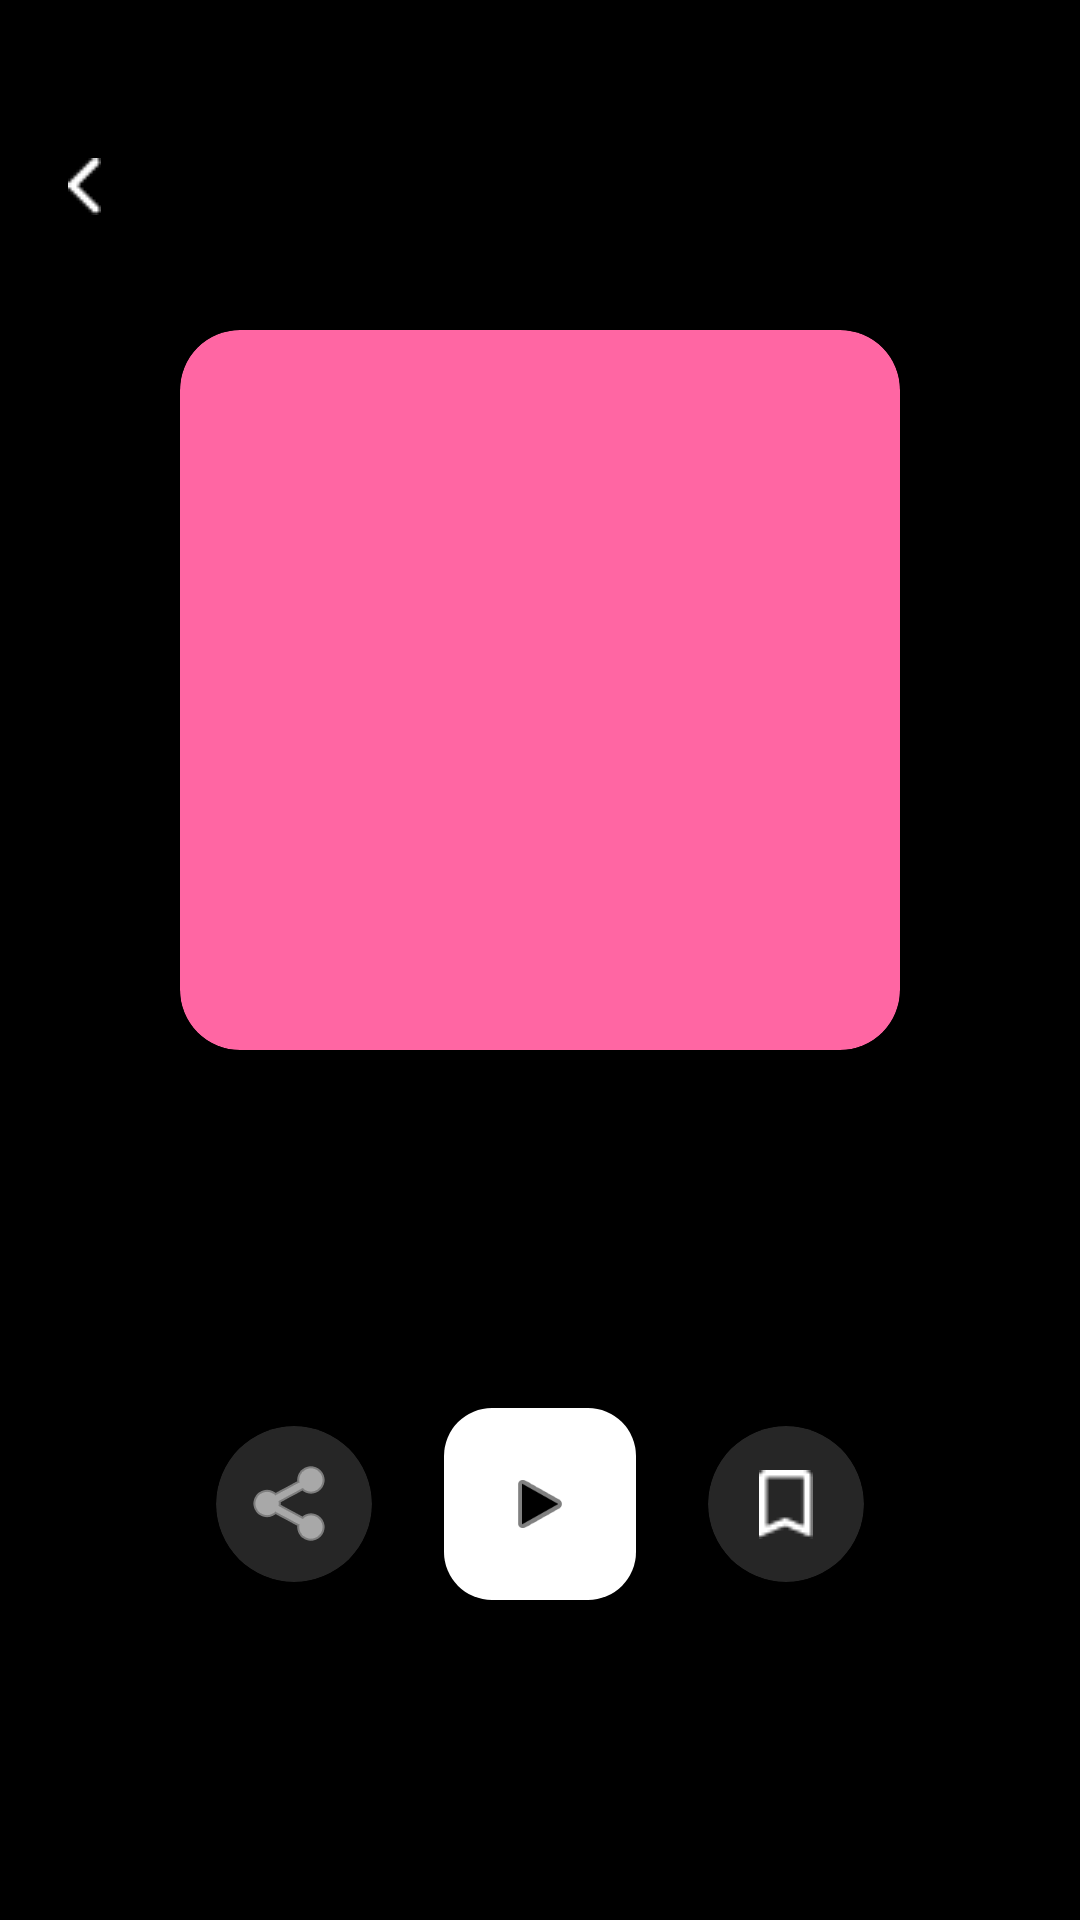

Icons on this 1080×1920 Android screen, each with its box as (x1, y1, x2, y2):
play: (444, 1408, 636, 1600)
save: (708, 1426, 864, 1582)
share: (216, 1426, 372, 1582)
